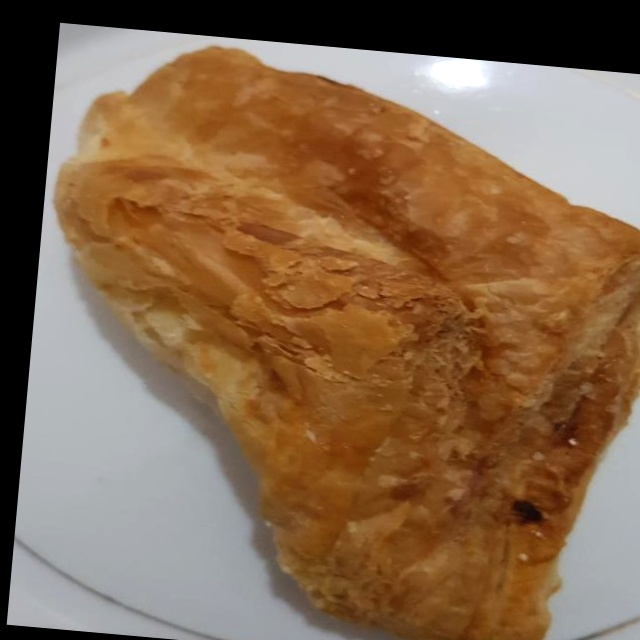Chicken Pastry: (18, 32, 640, 640)
